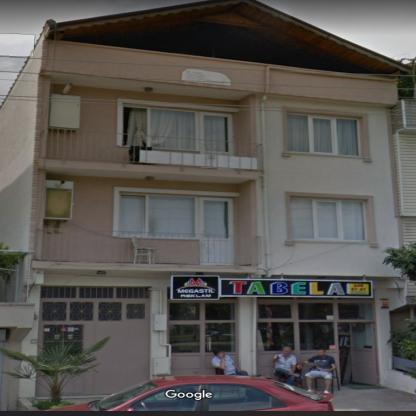door: (198, 197, 233, 265), (350, 323, 378, 384), (40, 321, 91, 354), (200, 112, 234, 154), (63, 373, 90, 395), (36, 384, 49, 396)
window: (42, 287, 148, 321), (119, 194, 198, 238), (124, 105, 199, 150), (292, 198, 367, 241), (289, 114, 361, 156), (299, 322, 336, 350), (258, 322, 294, 350), (170, 324, 199, 353), (207, 322, 234, 352), (299, 303, 334, 320), (338, 303, 374, 319), (169, 303, 199, 320), (205, 303, 234, 320), (260, 305, 292, 318)
